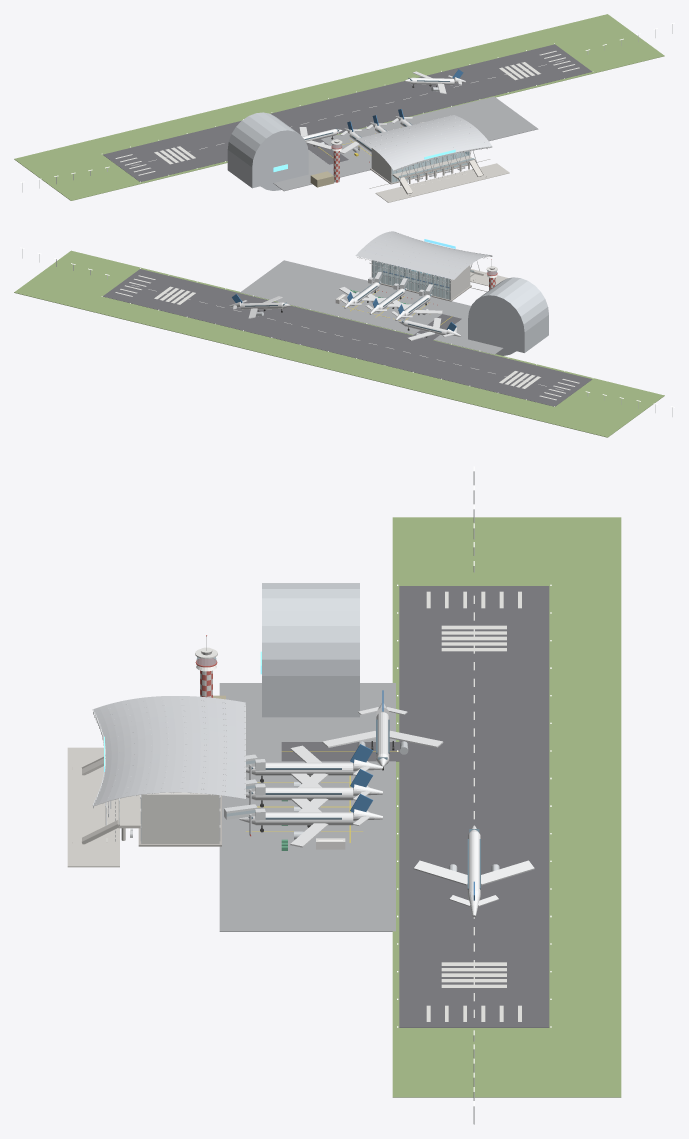
File: chennai-airport.glb
3 views of the same model, one above another, from view 1: azimuth 30°, elevation 25°; view 2: azimuth 150°, elevation 25°; view 3: azimuth 270°, elevation 25° (orthographic). The views are drawn at different scales.
Parts seen in each view (by area): view 1: Airport_grass, Airport_runway, Airport_hangar, Airport_apron, Airport_roof, Airport_concrete, Airport_planeWhite, Airport_marking, Airport_steel, Airport_glass, Airport_wall, Airport_concreteD (+2 smaller); view 2: Airport_grass, Airport_runway, Airport_apron, Airport_hangar, Airport_roof, Airport_planeWhite, Airport_glass, Airport_marking, Airport_steel, Airport_interior, Airport_wall, Airport_concreteD (+2 smaller); view 3: Airport_grass, Airport_runway, Airport_apron, Airport_roof, Airport_hangar, Airport_planeWhite, Airport_concrete, Airport_marking, Airport_wall, Airport_steel, Airport_planeDark.
Part boxes in pixels (box(x1,y1,x2,y2)): Airport_grass: box(14, 14, 664, 200); Airport_runway: box(103, 44, 592, 181); Airport_hangar: box(227, 112, 308, 190); Airport_apron: box(273, 96, 538, 191); Airport_roof: box(356, 115, 492, 170); Airport_concrete: box(369, 155, 509, 202); Airport_planeWhite: box(299, 71, 465, 153); Airport_marking: box(115, 51, 579, 189); Airport_steel: box(22, 24, 672, 192); Airport_glass: box(331, 144, 474, 182); Airport_wall: box(371, 148, 470, 182); Airport_concreteD: box(370, 159, 486, 195); Airport_grass: box(14, 250, 664, 437); Airport_runway: box(103, 269, 592, 406); Airport_apron: box(240, 260, 503, 354); Airport_hangar: box(468, 277, 548, 355); Airport_roof: box(355, 231, 491, 279); Airport_planeWhite: box(229, 281, 461, 340); Airport_glass: box(372, 260, 497, 299); Airport_marking: box(115, 275, 579, 400); Airport_steel: box(22, 231, 672, 416); Airport_interior: box(374, 264, 448, 294); Airport_wall: box(371, 260, 470, 299); Airport_concreteD: box(373, 271, 486, 301); Airport_grass: box(392, 517, 621, 1097); Airport_runway: box(281, 586, 549, 1027); Airport_apron: box(219, 683, 395, 931); Airport_roof: box(92, 696, 245, 805); Airport_hangar: box(262, 583, 359, 717); Airport_planeWhite: box(239, 703, 534, 917); Airport_concrete: box(67, 747, 141, 867); Airport_marking: box(106, 591, 521, 1021); Airport_wall: box(141, 793, 219, 843); Airport_steel: box(93, 471, 474, 1124); Airport_planeDark: box(248, 719, 480, 889).
Bounding box in the file's own units: 463 × 40 × 170.
